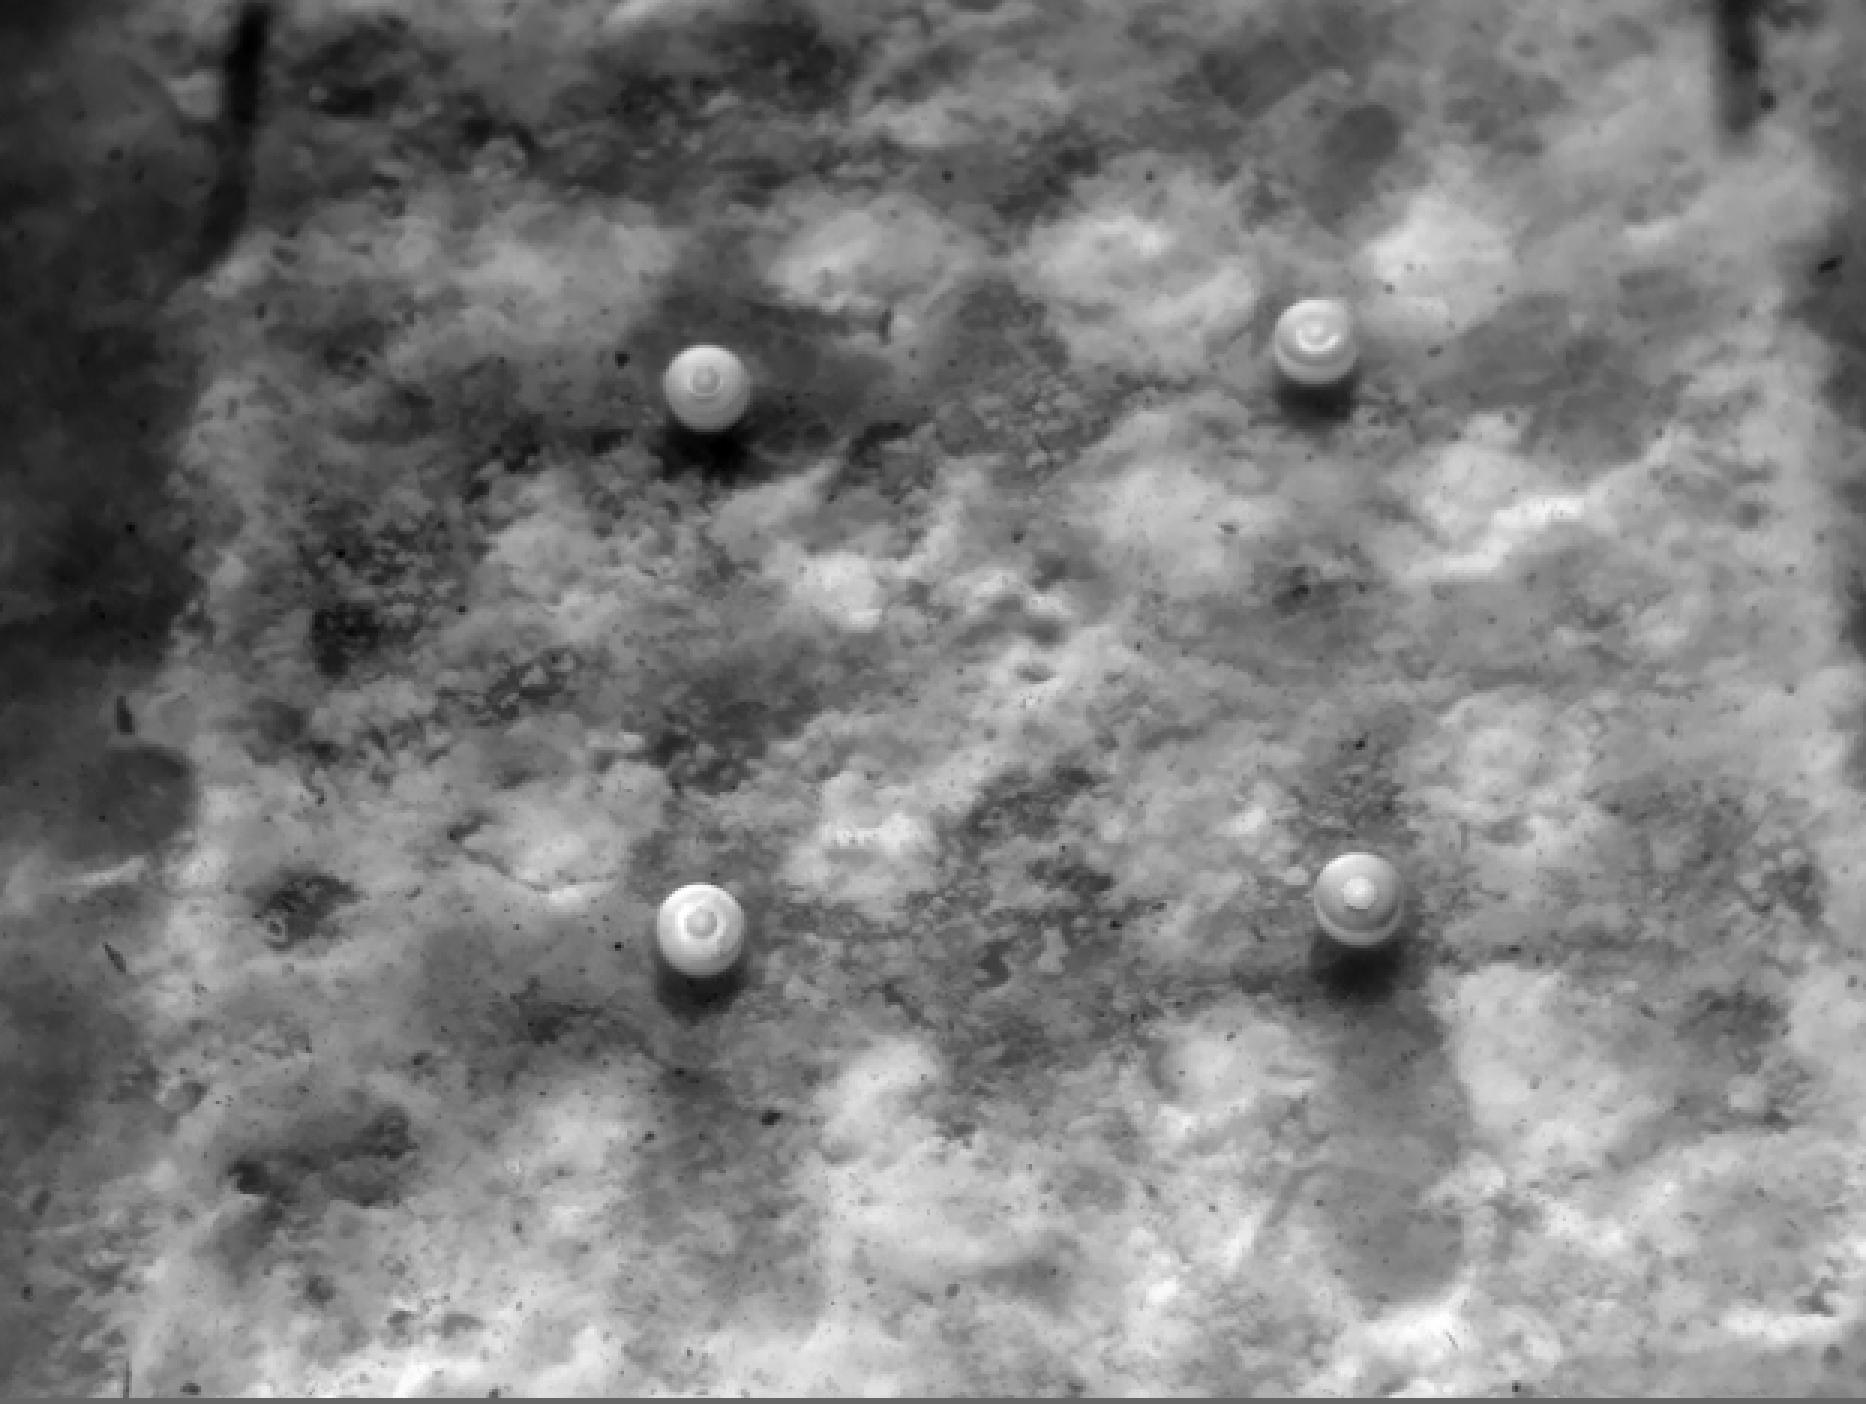mines-gjV8: (1314, 848, 1412, 954), (662, 875, 746, 984), (662, 348, 755, 423), (1274, 302, 1364, 376)
